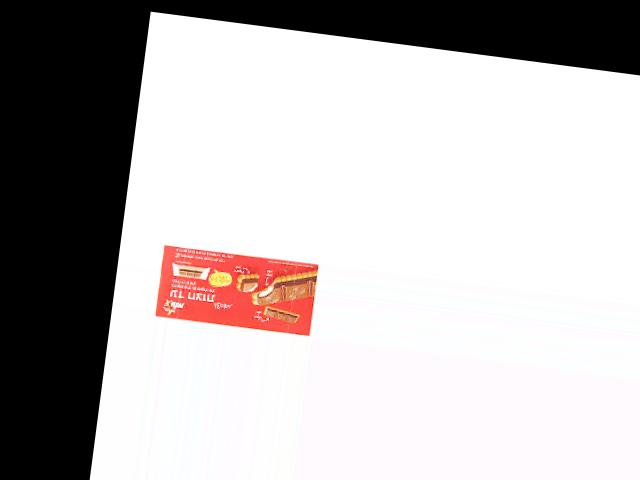chocolate: (152, 243, 319, 337)
